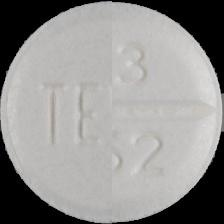42291-141: (0, 0, 224, 224)
